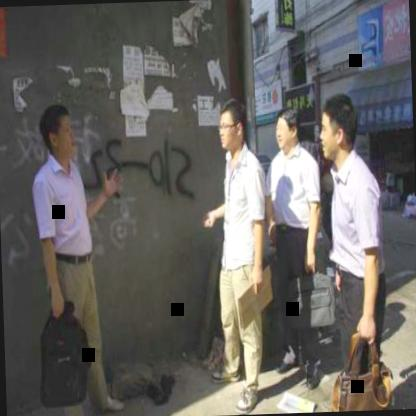head: (317, 87, 361, 168), (36, 100, 78, 166), (214, 93, 248, 152), (272, 105, 300, 152)
